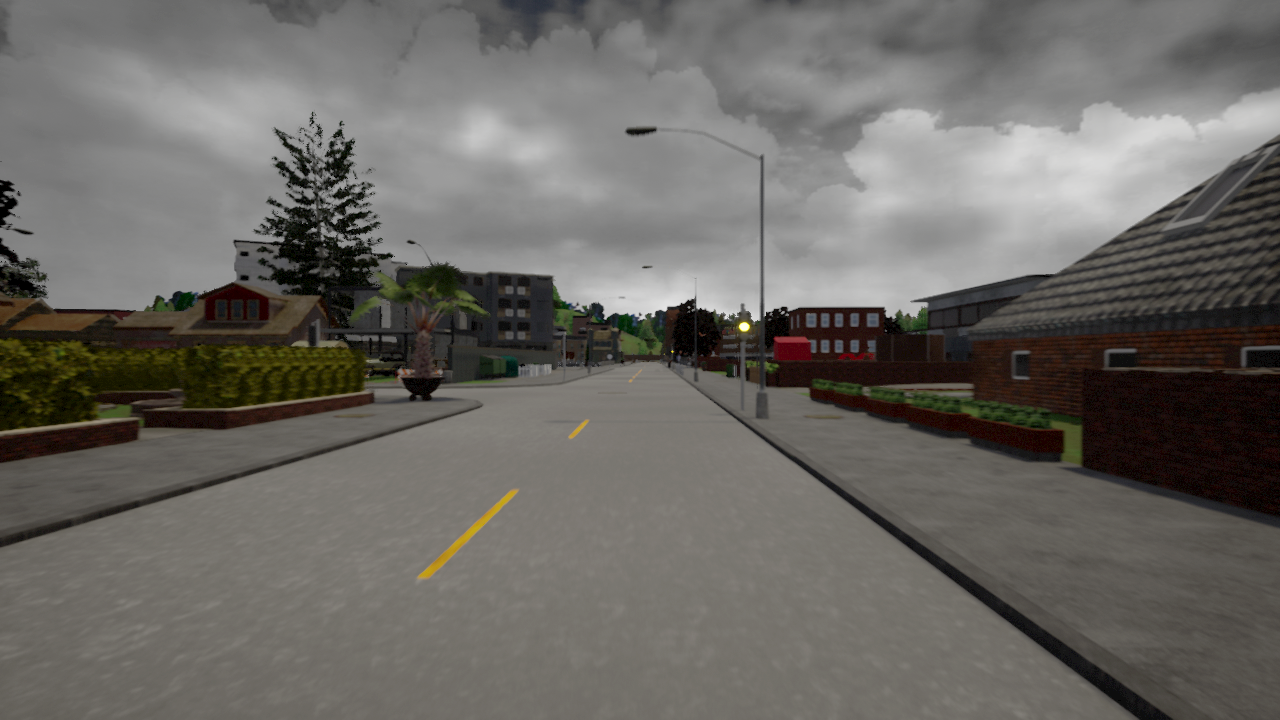yellow: (735, 310, 752, 343)
